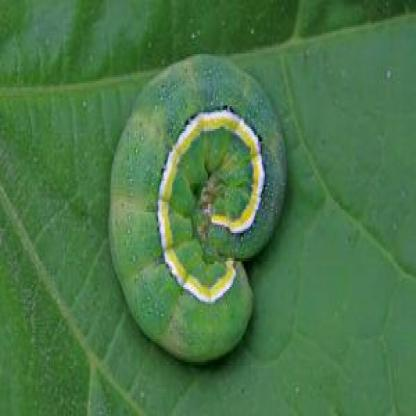armyworm: (100, 46, 287, 373)
